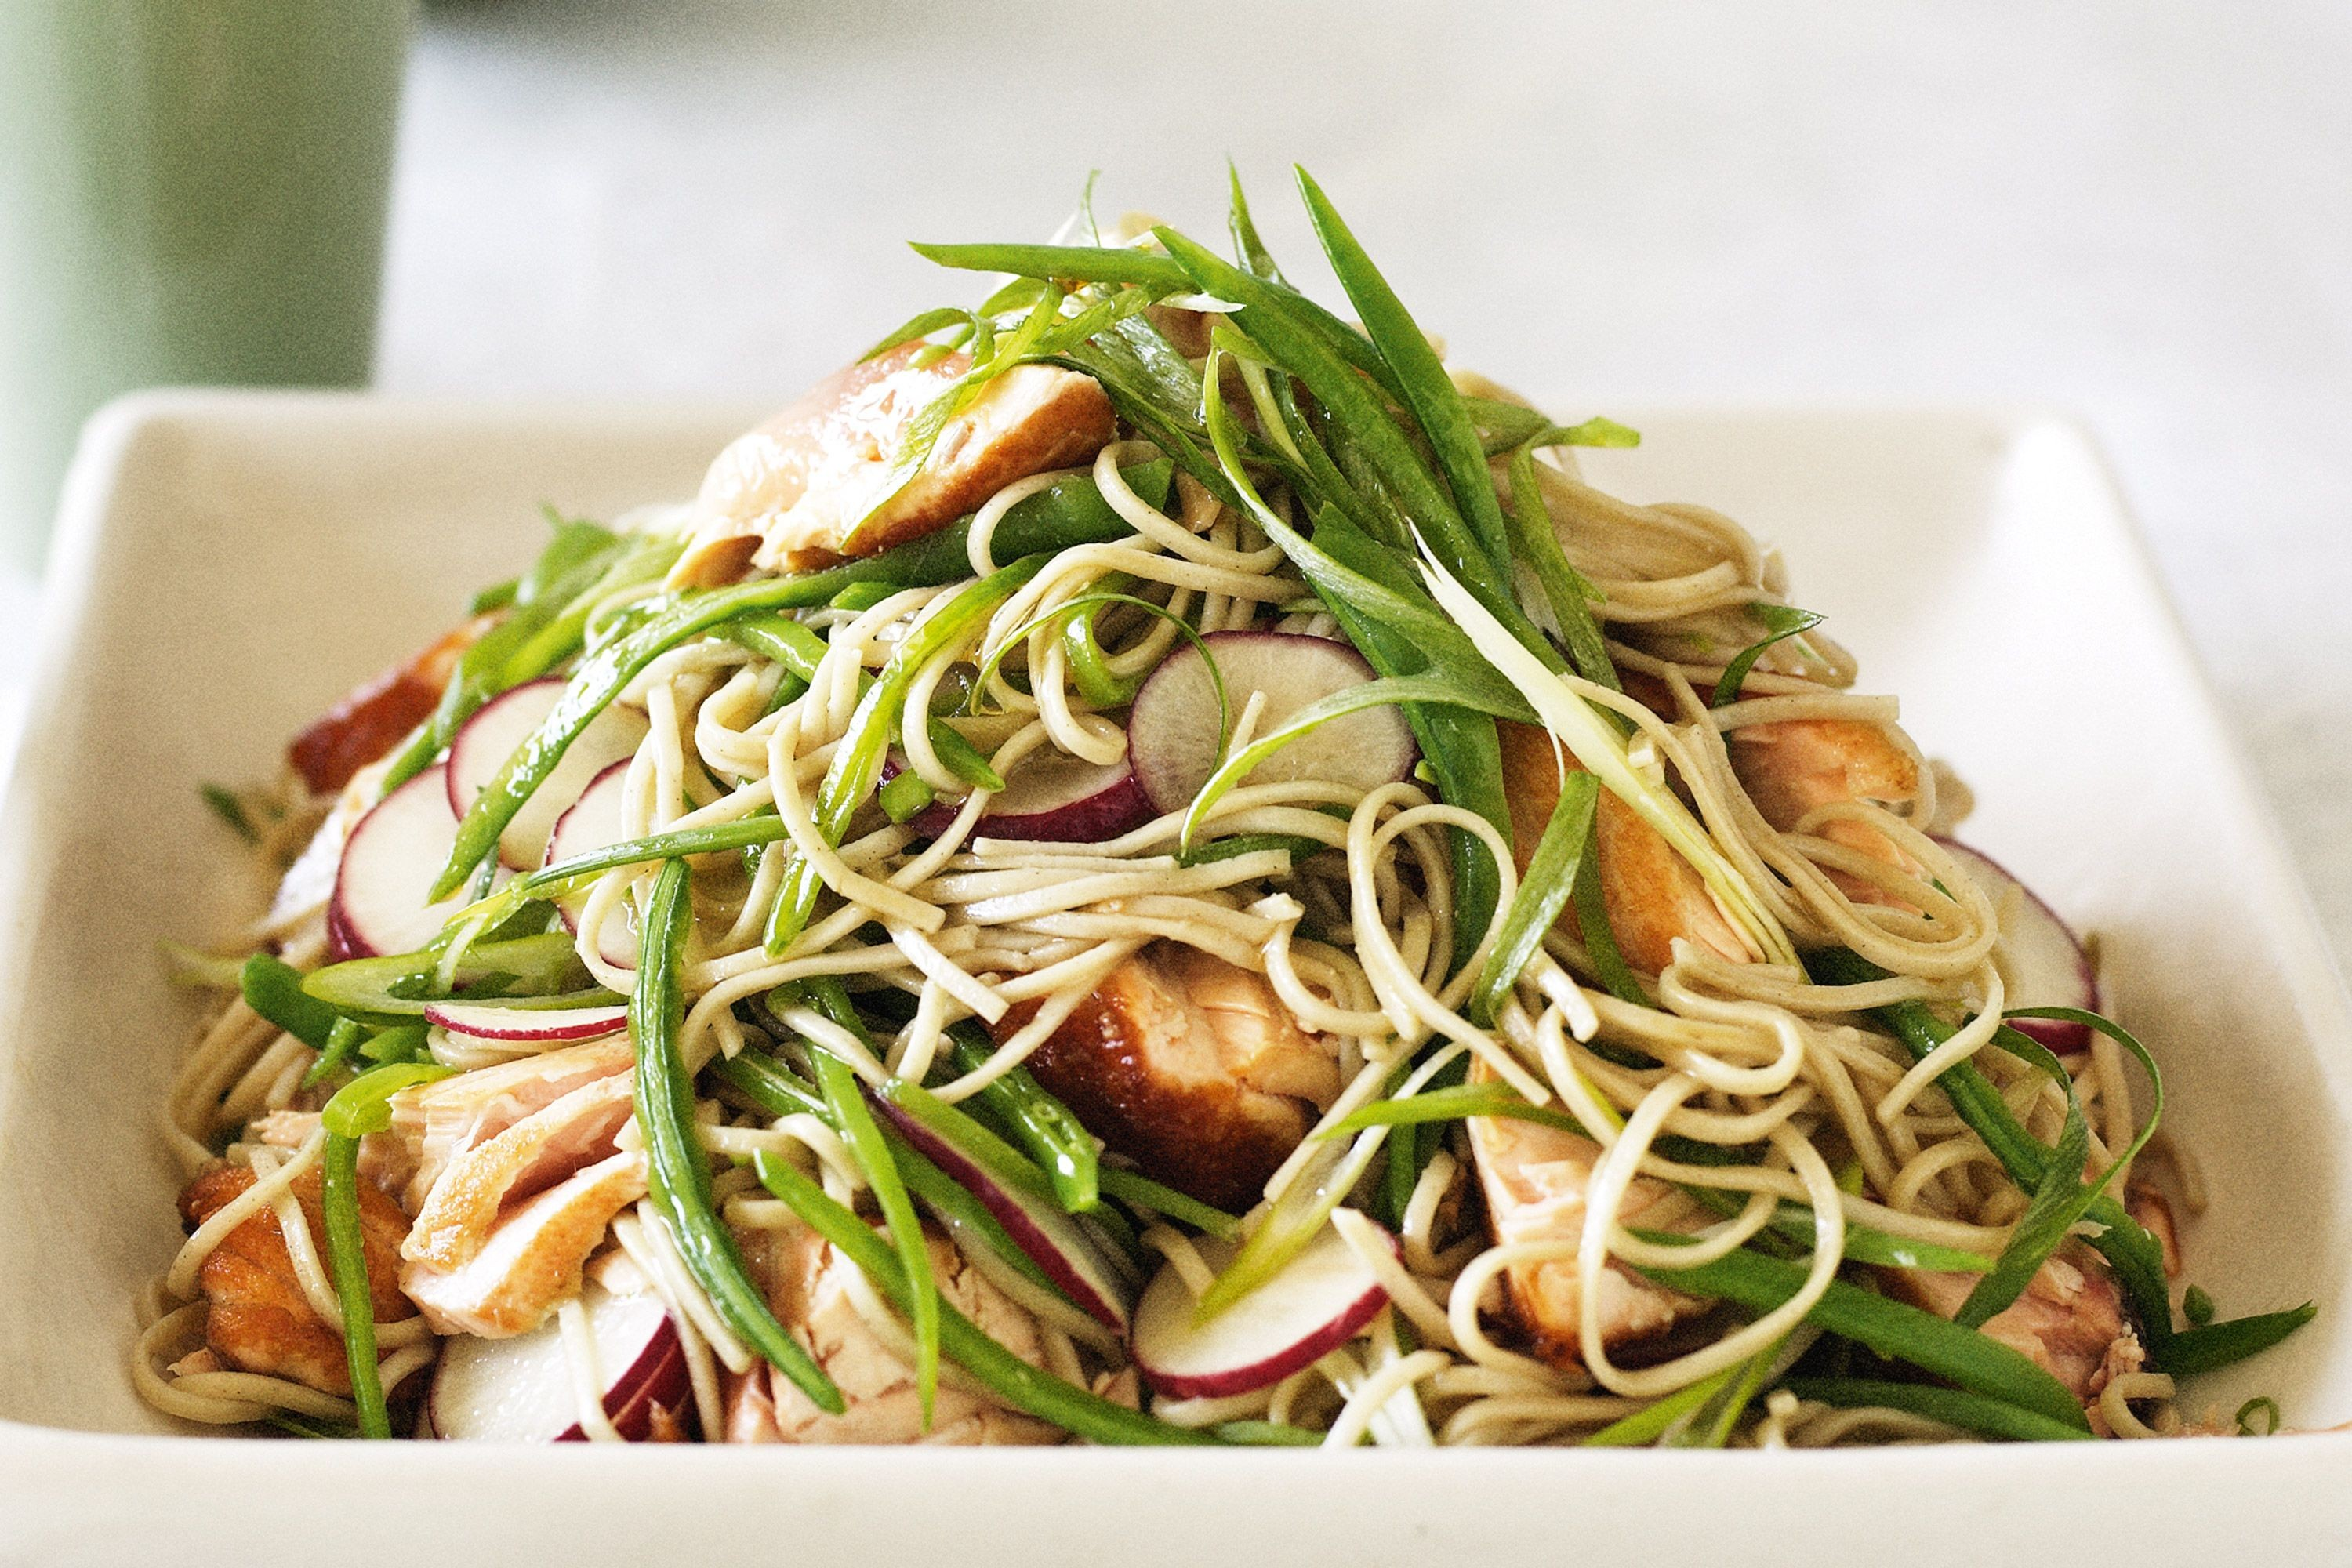Soba: (51, 264, 2226, 1482)
